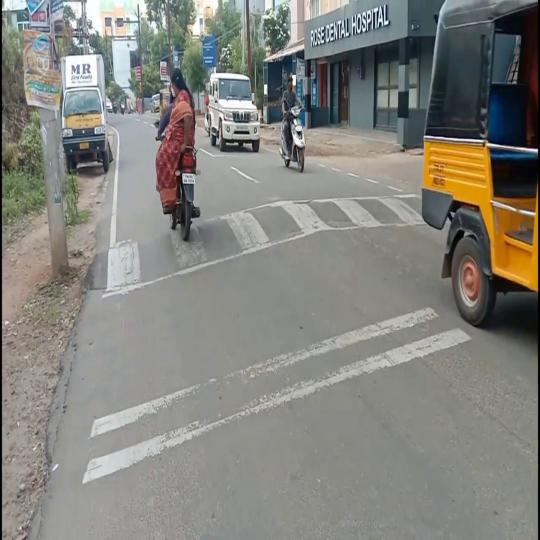Speed Bump: (201, 194, 422, 264), (89, 231, 181, 289)
